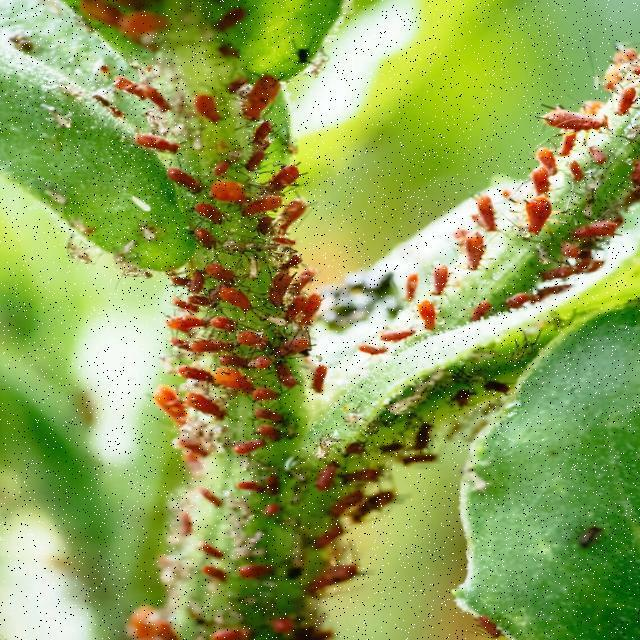Aphids: (202, 280, 265, 322), (222, 324, 282, 359), (181, 215, 235, 253), (190, 259, 237, 292), (193, 200, 233, 232)
